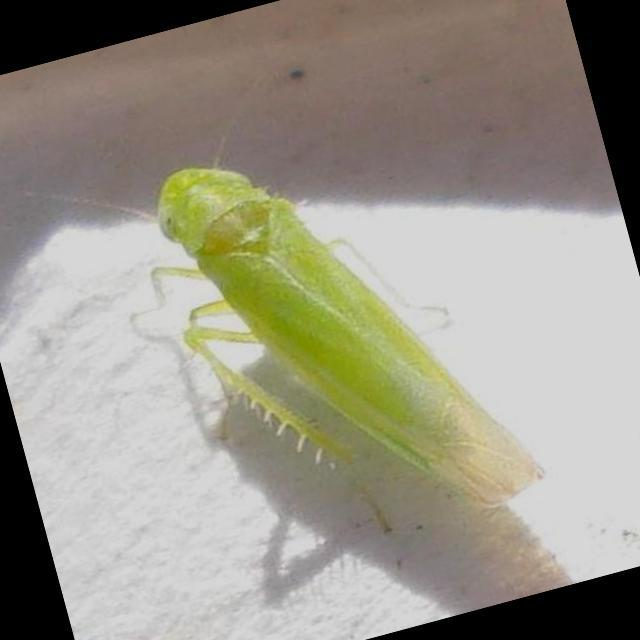green leaf hopper: (158, 168, 538, 507)
